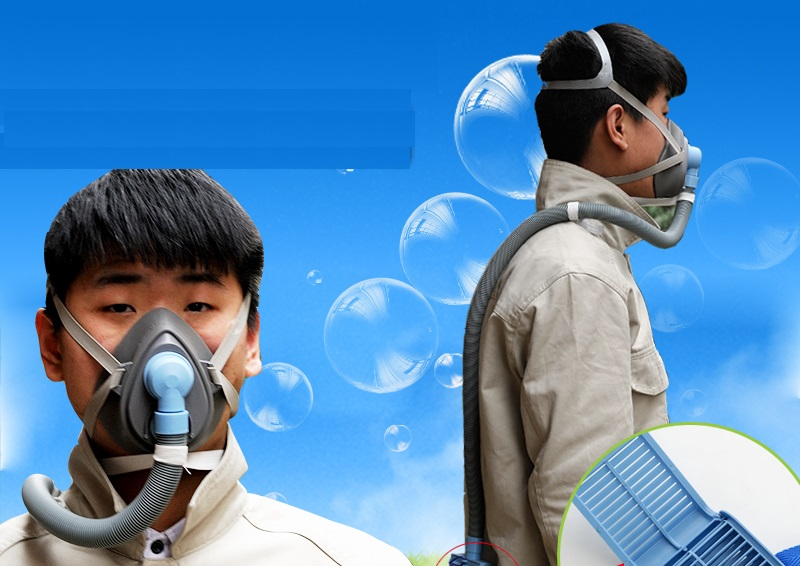face_mask: (65, 233, 243, 456), (630, 82, 687, 202)
